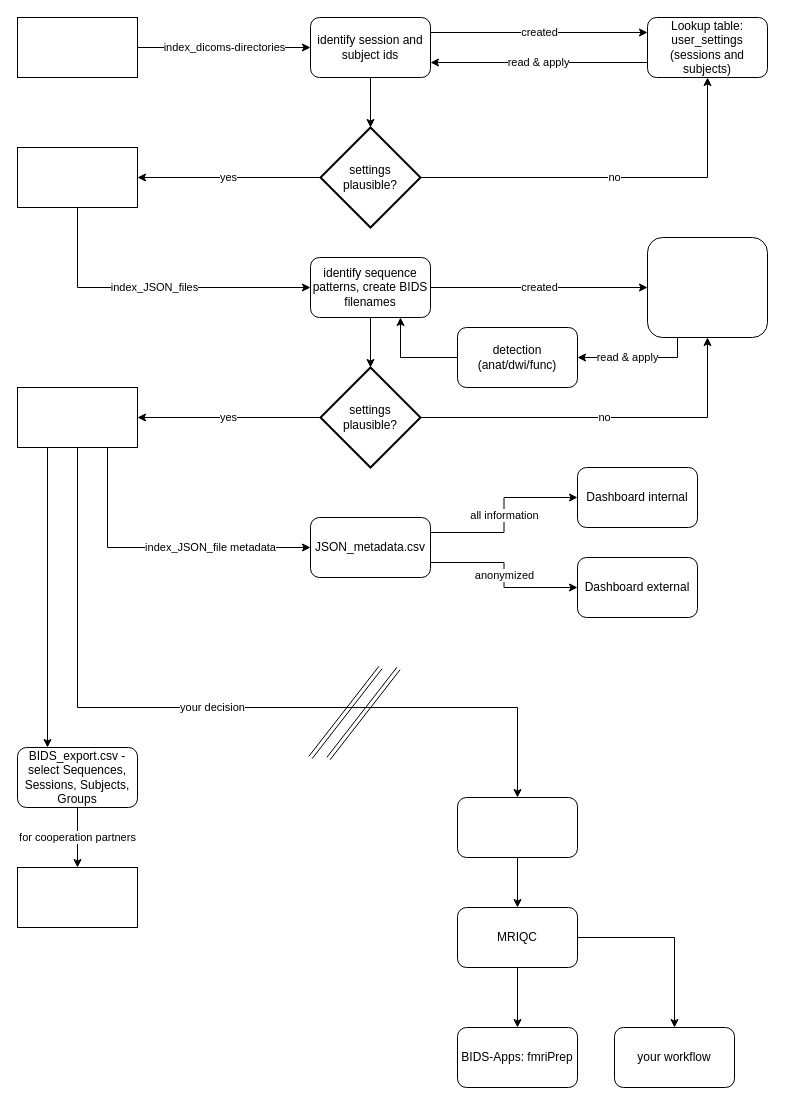
The diagram is 785 pixels wide and 1105 high, and some of its shapes have lost their labels. Here are the shapes that lost their labels. From the top down, the box of each, then its label:
(16, 16, 138, 78): DICOM
(16, 146, 138, 208): NII_temp/_headers
(646, 236, 768, 338): Lookup table: user settings (sequences to BIDS filenames), relevant sequences
(16, 386, 138, 448): BIDS
(456, 796, 578, 858): BIDS-Validator
(16, 866, 138, 928): BIDS_export
